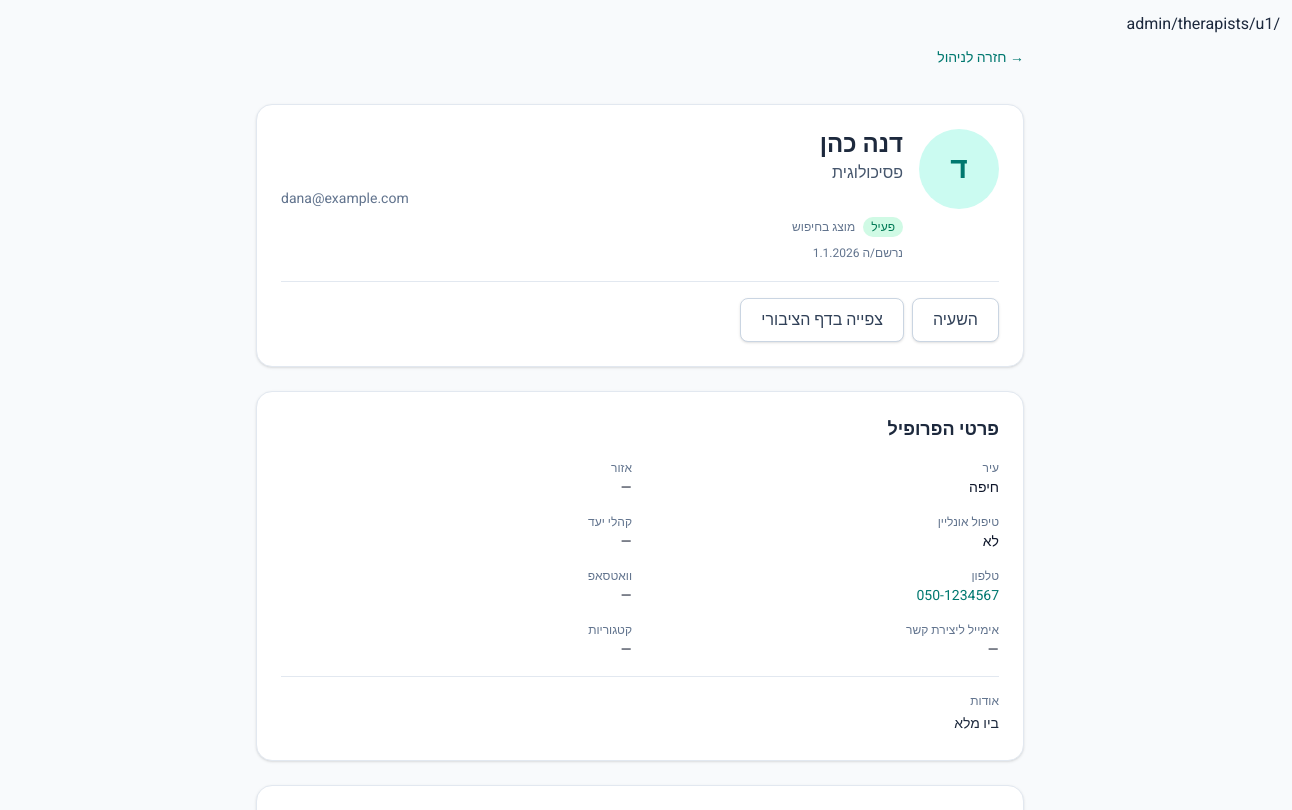
Test: AdminTherapistPage: approve, suspend, reactivate › suspends after a warning that the user is locked out
Expected: the heading "דנה כהן" is shown, x1=820 y1=127 x2=903 y2=162
What coordinates should you click on to do the following:
click the button "השעיה"
I would click on:
 (955, 320)
Its box is x1=912 y1=298 x2=999 y2=342.
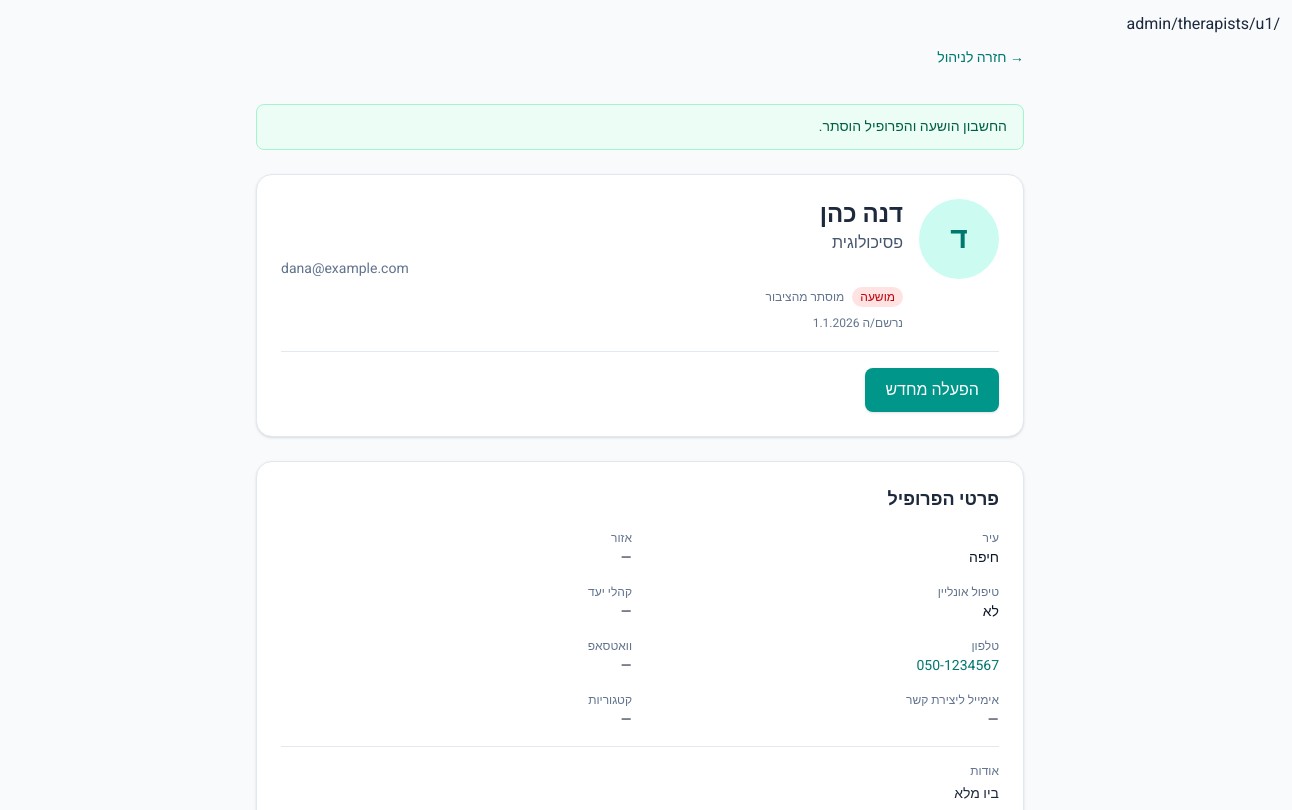
Result: the text "החשבון הושעה והפרופיל הוסתר." is shown at x1=256 y1=104 x2=1024 y2=150
Result: the button "הפעלה מחדש" is shown at x1=865 y1=368 x2=999 y2=412
